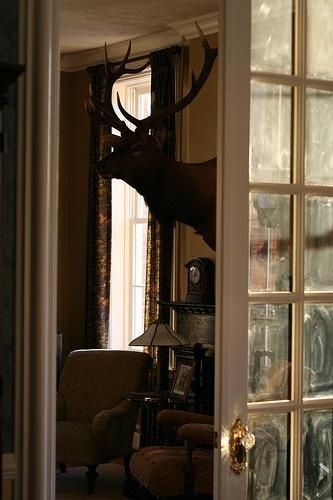chair: (57, 348, 153, 485), (127, 406, 217, 500)
